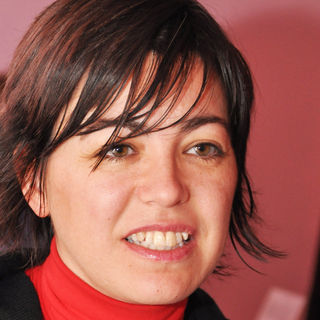eye: (177, 138, 231, 164), (95, 141, 140, 163)
